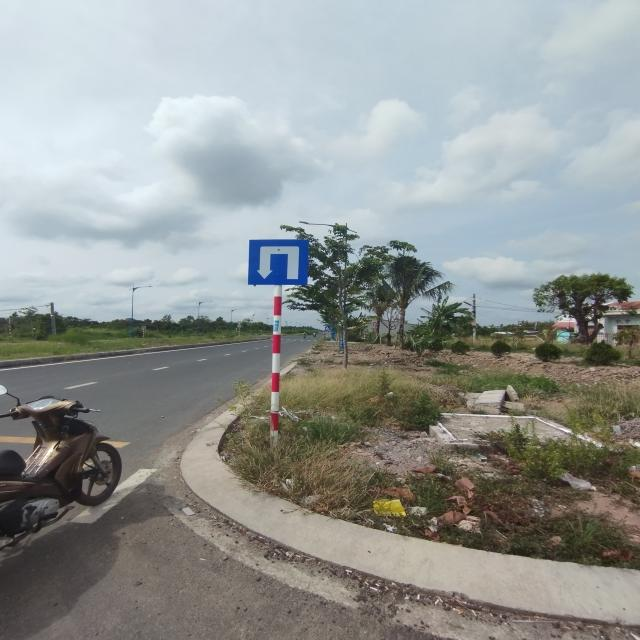Den_Giao_Thong: (250, 240, 308, 284)
